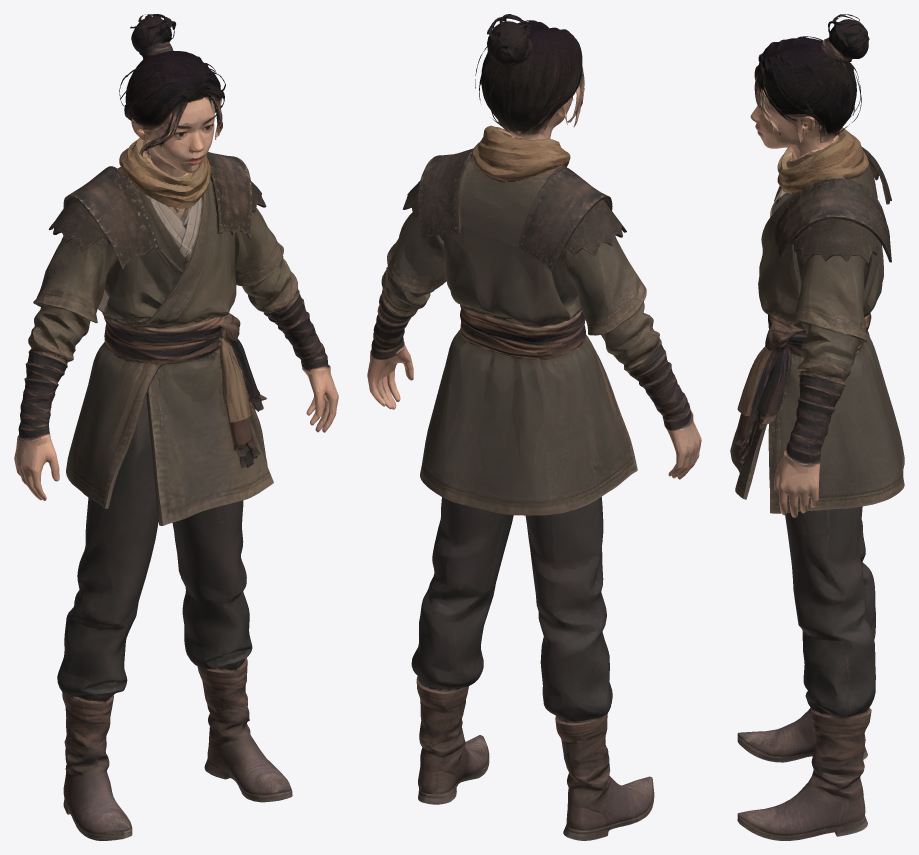
Rendered from shenzhaoye-child-v1.glb.
3 renders of one model, left to right at view 1: azimuth 30°, elevation 25°; view 2: azimuth 150°, elevation 25°; view 3: azimuth 270°, elevation 25°, orthographic. The views are drawn at different scales.
Bounding box in the file's own units: 0.8043 × 1.9 × 0.3873.
1 material, 1 textured.
